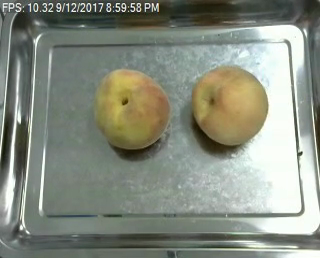Peach: (92, 68, 172, 150), (191, 65, 268, 145)
